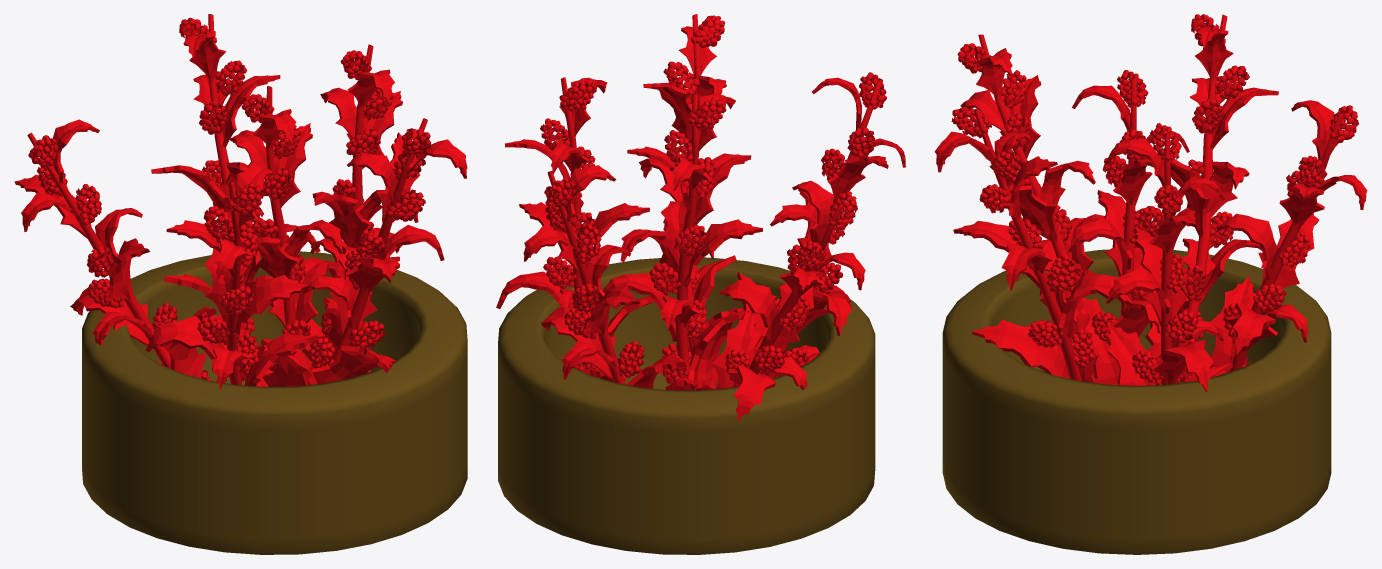
The model's file is AardbeiSpinazStatue.fbx.
3 views of the same model, side by side, from view 1: azimuth 30°, elevation 25°; view 2: azimuth 150°, elevation 25°; view 3: azimuth 270°, elevation 25° (orthographic). The views are drawn at different scales.
Parts seen in each view (by area): view 1: Cylinder, Leave.006, Leave.007, Leave.003, Leave.012, Leave.005, Leave.004; view 2: Cylinder, Leave.012, Leave.003, Leave.004, Leave.006, Leave.007, Leave.005; view 3: Cylinder, Leave.006, Leave.005, Leave.004, Leave.003, Leave.012, Leave.007.
Part boxes in pixels (bbox=[...]): Cylinder: bbox=[82, 251, 467, 554]; Leave.006: bbox=[267, 118, 467, 384]; Leave.007: bbox=[145, 163, 318, 389]; Leave.003: bbox=[14, 119, 216, 380]; Leave.012: bbox=[223, 86, 342, 386]; Leave.005: bbox=[269, 44, 418, 380]; Leave.004: bbox=[151, 14, 320, 381]; Cylinder: bbox=[498, 257, 875, 554]; Leave.012: bbox=[603, 93, 762, 390]; Leave.003: bbox=[711, 180, 865, 422]; Leave.004: bbox=[519, 165, 686, 388]; Leave.006: bbox=[620, 14, 751, 384]; Leave.007: bbox=[737, 72, 905, 378]; Leave.005: bbox=[496, 77, 654, 382]; Cylinder: bbox=[942, 249, 1331, 554]; Leave.006: bbox=[934, 106, 1133, 382]; Leave.005: bbox=[1106, 123, 1232, 391]; Leave.004: bbox=[1210, 100, 1367, 372]; Leave.003: bbox=[1142, 14, 1278, 382]; Leave.012: bbox=[1067, 70, 1191, 385]; Leave.007: bbox=[957, 34, 1104, 377].
Bounding box in the file's own units: 583 × 585 × 569.
